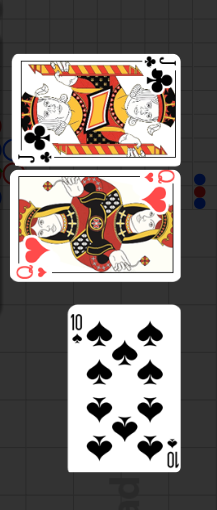10S: (69, 312, 84, 346), (165, 436, 179, 469)
JC: (17, 150, 54, 166)
